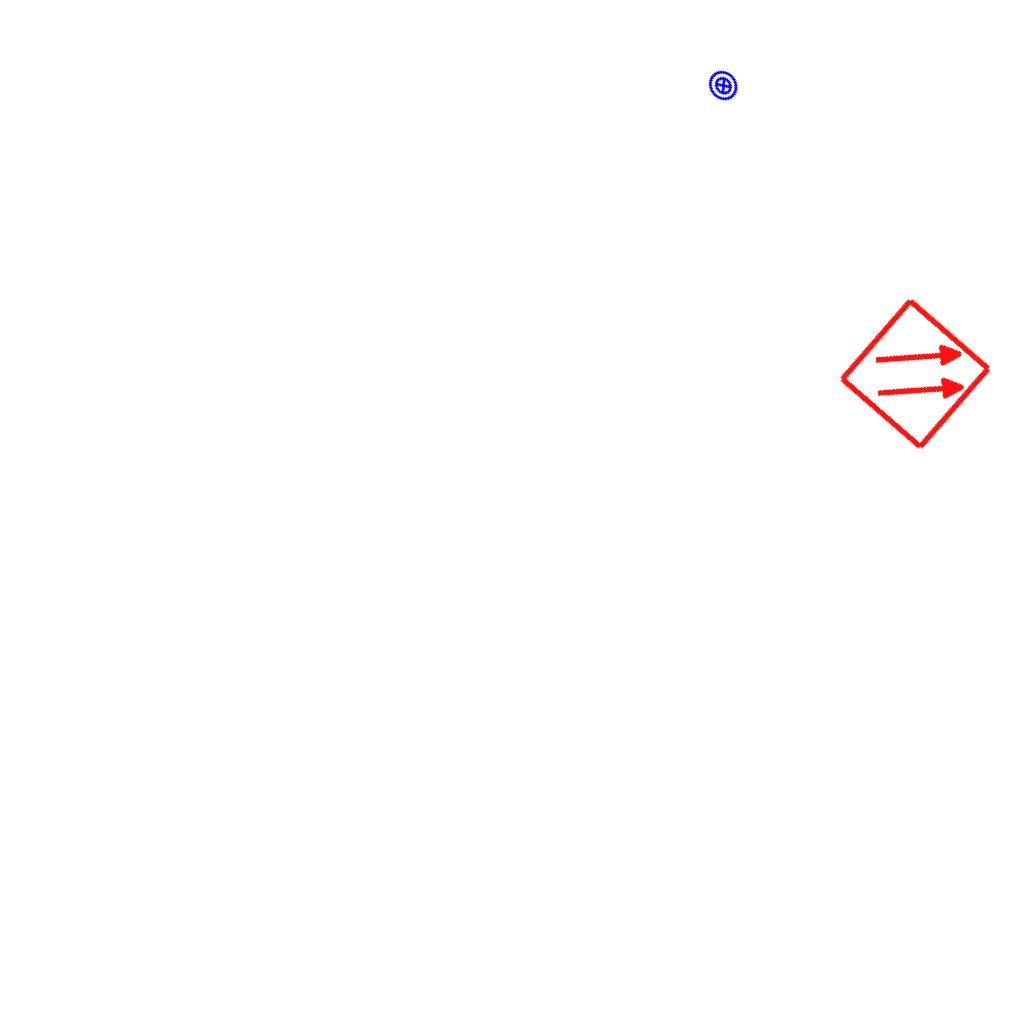RMO_Rauchmelder_optischer: (835, 293, 996, 454)
Taster_beleuchtet: (700, 62, 747, 109)
